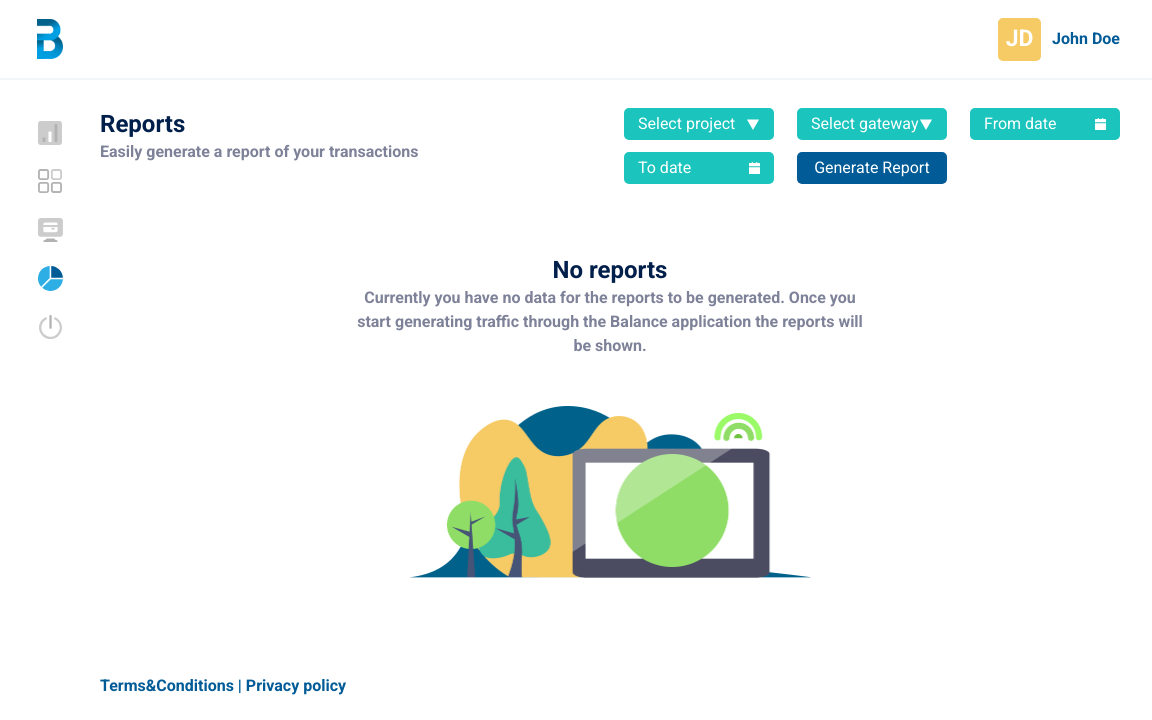
Test: Display report › should display an error if the api returns a status code outside 2xx
Click the button "Generate Report".
click(872, 168)  # box [797,152,947,184]
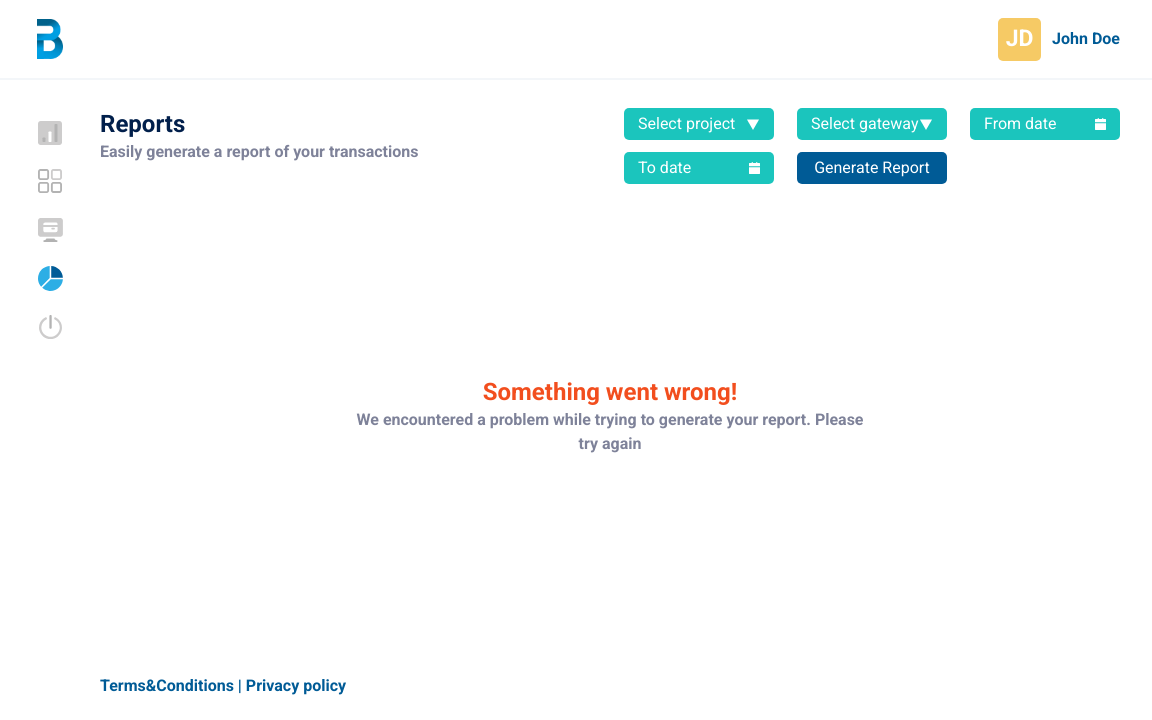
Now the element with test id "error" shows "Something went wrong", box [357,378,864,453]
